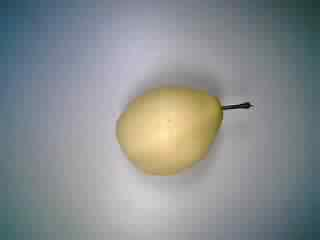pear: (102, 80, 261, 180)
